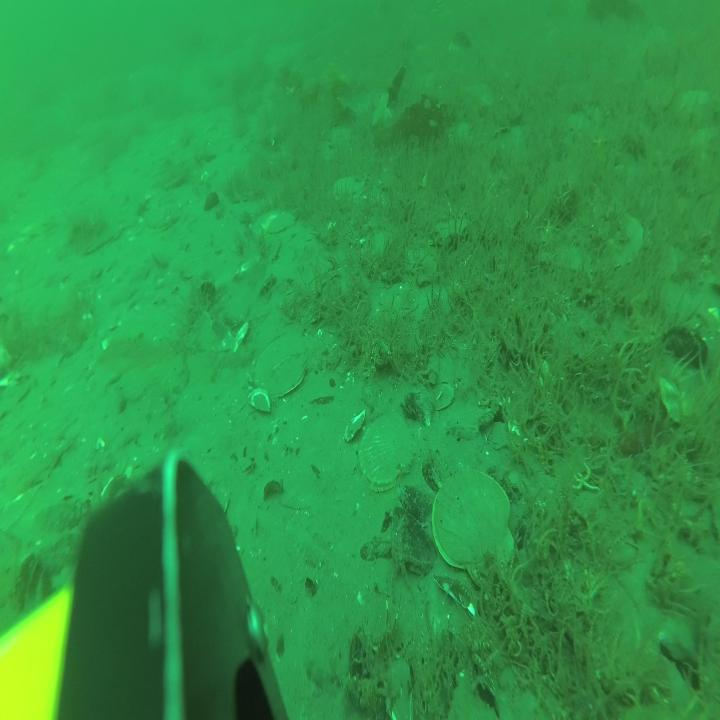scallop: (432, 472, 516, 589), (360, 413, 416, 491), (256, 332, 313, 397), (607, 217, 645, 268), (146, 190, 182, 232), (333, 173, 364, 205), (254, 207, 274, 233), (272, 211, 294, 234)
